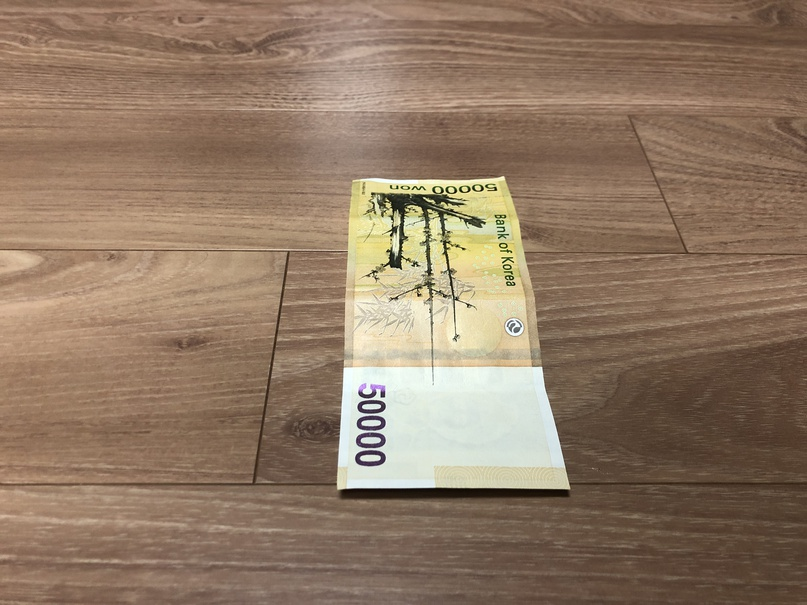50000won: (337, 177, 571, 490)
